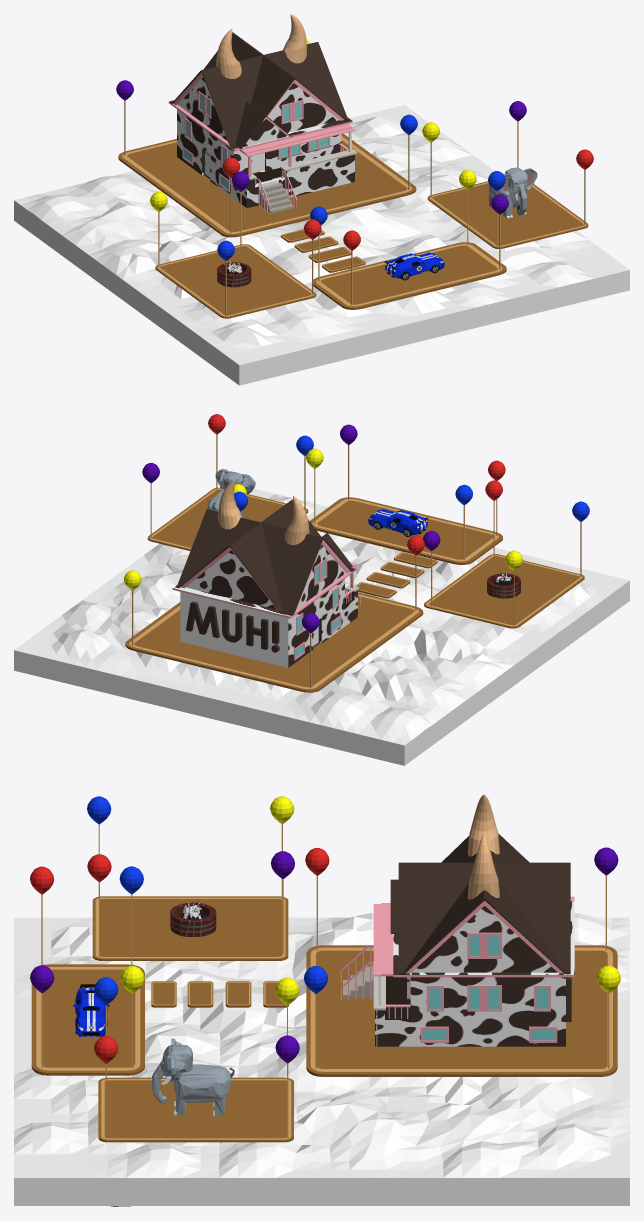
3 views of the same model, one above another, from view 1: azimuth 30°, elevation 25°; view 2: azimuth 150°, elevation 25°; view 3: azimuth 270°, elevation 25° (orthographic). The views are drawn at different scales.
Visible parts, largest first — view 1: Cube.013, Cube.1242, ANIMAL_ELEFANTE, VEHICLES_RACING_CAR, OBJRANDOM_CAMPFIRE; view 2: Cube.013, Cube.1242, VEHICLES_RACING_CAR, ANIMAL_ELEFANTE, OBJRANDOM_CAMPFIRE; view 3: Cube.013, Cube.1242, ANIMAL_ELEFANTE, OBJRANDOM_CAMPFIRE, VEHICLES_RACING_CAR.
Boxes of the visible parts, left/top/right/bottom form: Cube.013: left=14, top=38, right=629, bottom=385; Cube.1242: left=168, top=14, right=357, bottom=214; ANIMAL_ELEFANTE: left=488, top=167, right=537, bottom=218; VEHICLES_RACING_CAR: left=384, top=252, right=444, bottom=280; OBJRANDOM_CAMPFIRE: left=217, top=260, right=251, bottom=287; Cube.013: left=14, top=414, right=629, bottom=765; Cube.1242: left=172, top=481, right=360, bottom=667; VEHICLES_RACING_CAR: left=368, top=509, right=427, bottom=536; ANIMAL_ELEFANTE: left=207, top=468, right=255, bottom=517; OBJRANDOM_CAMPFIRE: left=487, top=572, right=520, bottom=598; Cube.013: left=14, top=796, right=629, bottom=1205; Cube.1242: left=340, top=794, right=574, bottom=1046; ANIMAL_ELEFANTE: left=152, top=1038, right=234, bottom=1116; OBJRANDOM_CAMPFIRE: left=170, top=900, right=216, bottom=936; VEHICLES_RACING_CAR: left=73, top=984, right=109, bottom=1036.
Bounding box in the file's own units: 4000 × 1920 × 4000.
38 materials, 1 textured.
